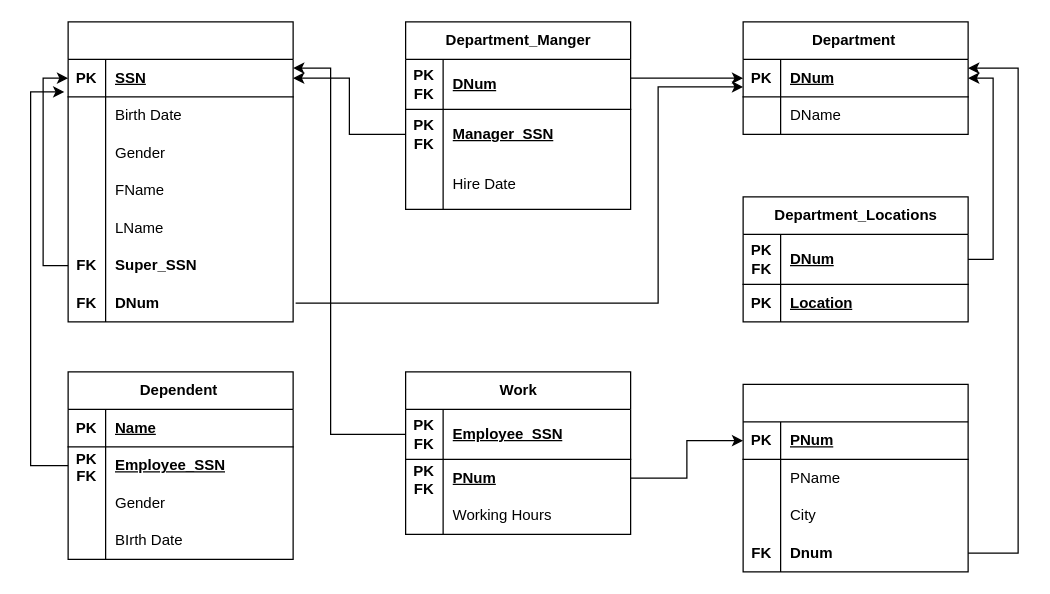
This 1050x594 diagram has some shape labels left out. Each missing label, with the box of its shape:
Employee: (67, 21, 293, 322)
Project: (742, 383, 968, 572)
